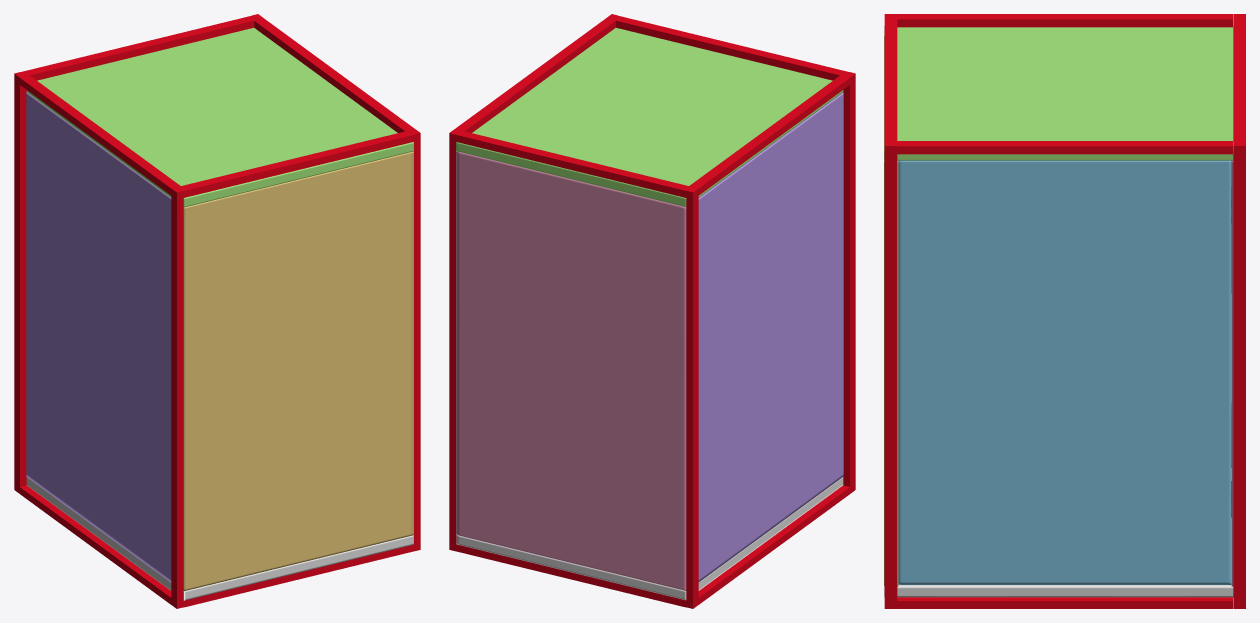
The model's file is StorageCabinetUpdated.glb.
The picture shows the model from 3 angles, left to right: view 1: azimuth 30°, elevation 25°; view 2: azimuth 150°, elevation 25°; view 3: azimuth 270°, elevation 25°; orthographic projection. The views are drawn at different scales.
Visible parts, largest first — view 1: left plank, back plank, top plank, edges, bottom plank; view 2: right plank, back plank, top plank, edges, bottom plank; view 3: door, top plank, edges, bottom plank, left plank, right plank.
Boxes of the visible parts, left/top/right/bottom form: left plank: left=183, top=151, right=413, bottom=591; back plank: left=26, top=92, right=171, bottom=582; top plank: left=26, top=28, right=413, bottom=207; edges: left=14, top=14, right=420, bottom=608; bottom plank: left=26, top=477, right=413, bottom=600; right plank: left=456, top=151, right=686, bottom=590; back plank: left=698, top=92, right=843, bottom=582; top plank: left=456, top=28, right=843, bottom=206; edges: left=449, top=14, right=855, bottom=608; bottom plank: left=456, top=477, right=843, bottom=600; door: left=898, top=160, right=1231, bottom=584; top plank: left=884, top=26, right=1233, bottom=160; edges: left=884, top=14, right=1245, bottom=608; bottom plank: left=884, top=468, right=1233, bottom=597; left plank: left=884, top=36, right=898, bottom=586; right plank: left=1231, top=160, right=1233, bottom=586.
Size of the model in its own units: 1.33 by 2.17 by 1.54.
